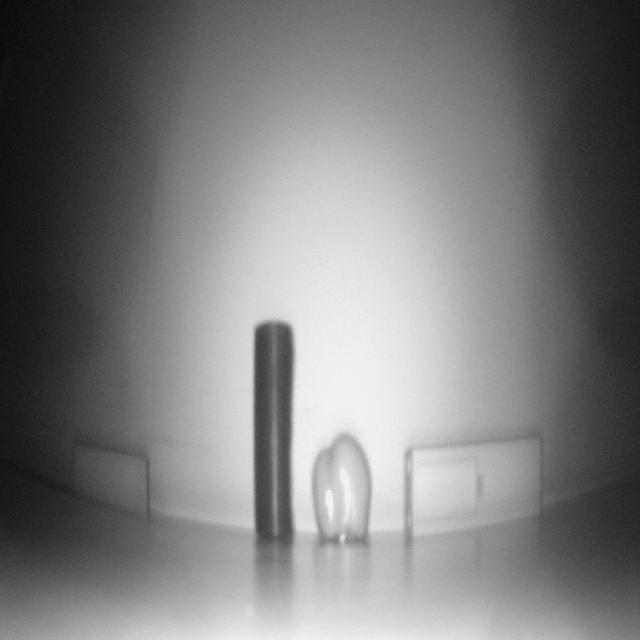targets: (402, 428, 544, 538), (253, 320, 295, 544), (311, 428, 374, 547), (73, 442, 154, 528)
